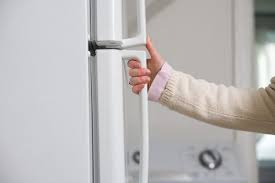handle: (133, 54, 156, 183), (131, 5, 148, 45)
refrigerator door: (94, 50, 127, 183), (98, 6, 124, 44)
